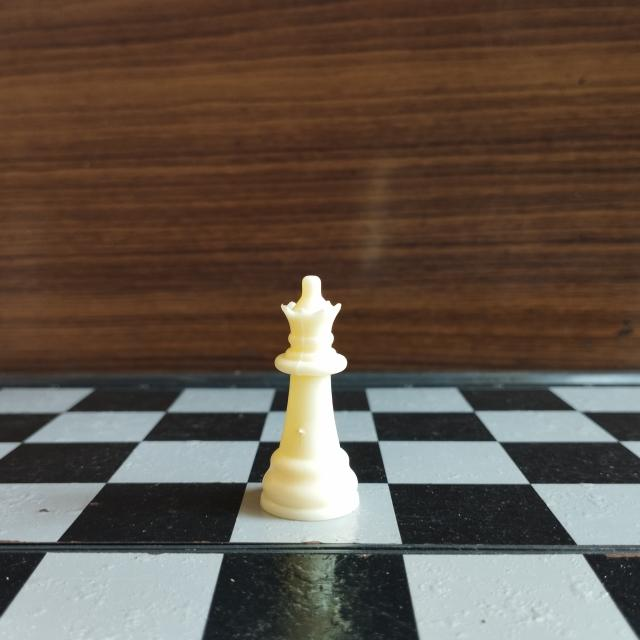White Queen: (255, 269, 363, 525)
